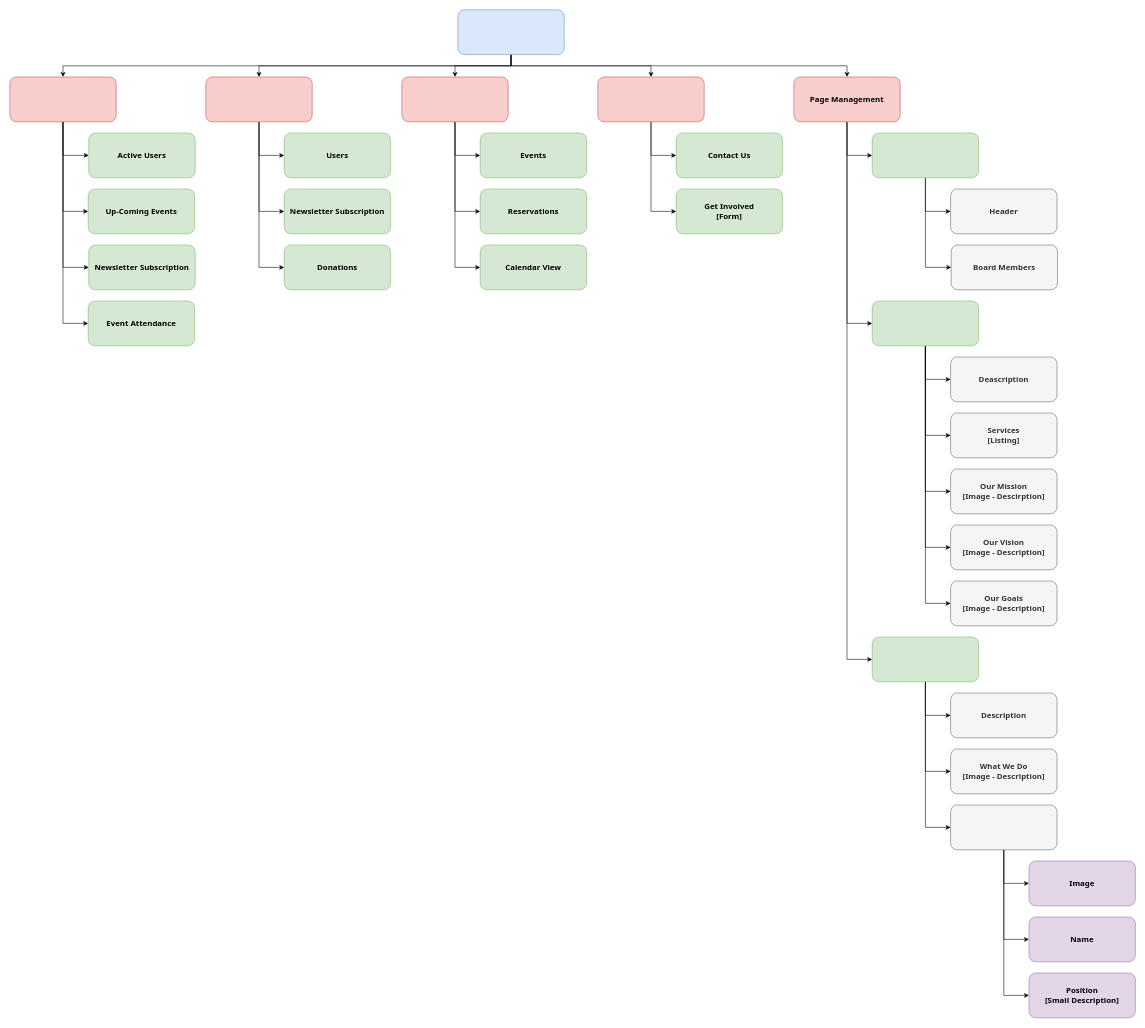
The diagram is 1145 pixels wide and 1028 high, and some of its shapes have lost their labels. The shapes that lost their labels are listed below. From the top down, each one's centre as x and y in pixels, then its label:
point 510,32: Dashboard/Super Admin
point 62,99: Overview
point 258,99: User Management
point 454,99: Event Management
point 650,99: Form Management
point 925,155: Home
point 925,323: About Us
point 925,659: Get Involved
point 1003,827: Featured Partners
